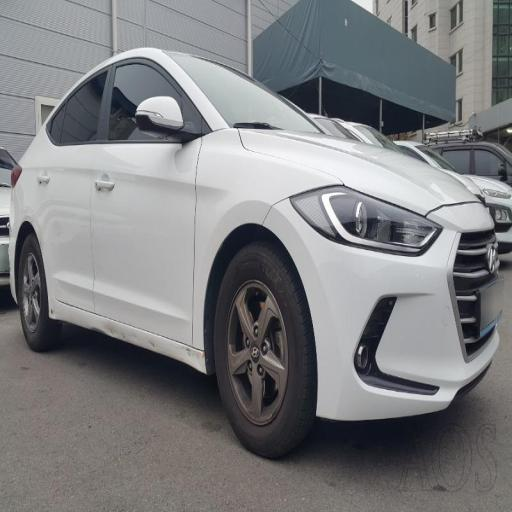scratch: (52, 242, 201, 379)
